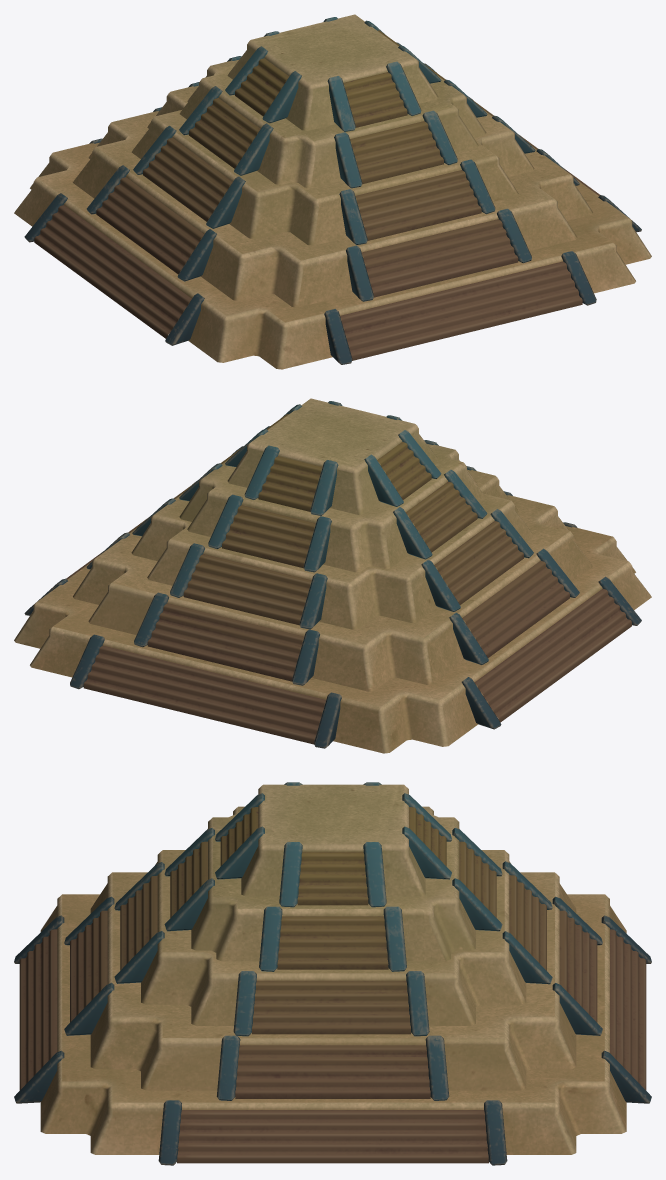
The model's file is Piramide.fbx.
3 renders of one model, top to bottom at view 1: azimuth 30°, elevation 25°; view 2: azimuth 150°, elevation 25°; view 3: azimuth 270°, elevation 25°, orthographic. The views are drawn at different scales.
Visible parts, largest first — view 1: Piramide_1_low, Piramide_2_low, Piramide_3_low, Piramide_4_low, Piramide_5_low; view 2: Piramide_1_low, Piramide_2_low, Piramide_3_low, Piramide_4_low, Piramide_5_low; view 3: Piramide_1_low, Piramide_2_low, Piramide_3_low, Piramide_4_low, Piramide_5_low.
Boxes of the visible parts, x1,y1,x2,y2 form: Piramide_1_low: (14, 97, 651, 369); Piramide_2_low: (73, 107, 592, 307); Piramide_3_low: (131, 63, 535, 245); Piramide_4_low: (179, 42, 487, 188); Piramide_5_low: (225, 14, 441, 131); Piramide_1_low: (14, 480, 651, 753); Piramide_2_low: (73, 491, 592, 691); Piramide_3_low: (131, 446, 534, 629); Piramide_4_low: (179, 426, 487, 572); Piramide_5_low: (225, 398, 441, 515); Piramide_1_low: (14, 894, 651, 1165); Piramide_2_low: (64, 872, 602, 1100); Piramide_3_low: (114, 850, 552, 1036); Piramide_4_low: (164, 806, 502, 971); Piramide_5_low: (215, 782, 451, 907).
Size of the model in its own units: 4001 by 1515 by 4001.
